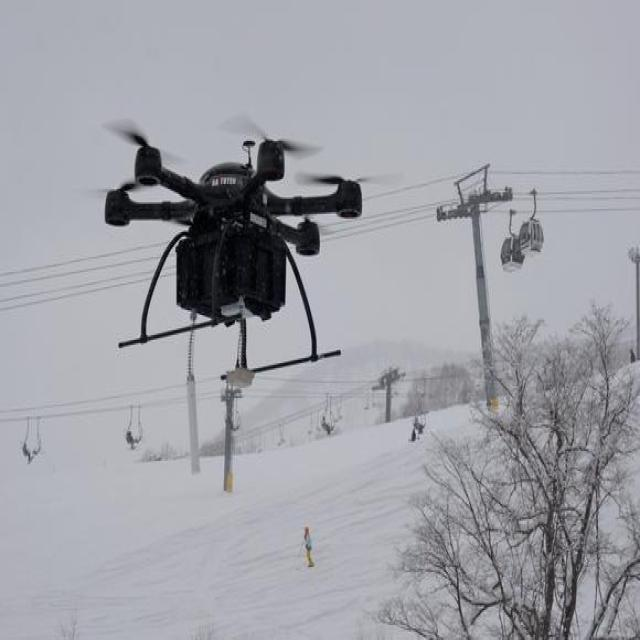drone: (104, 120, 370, 388)
